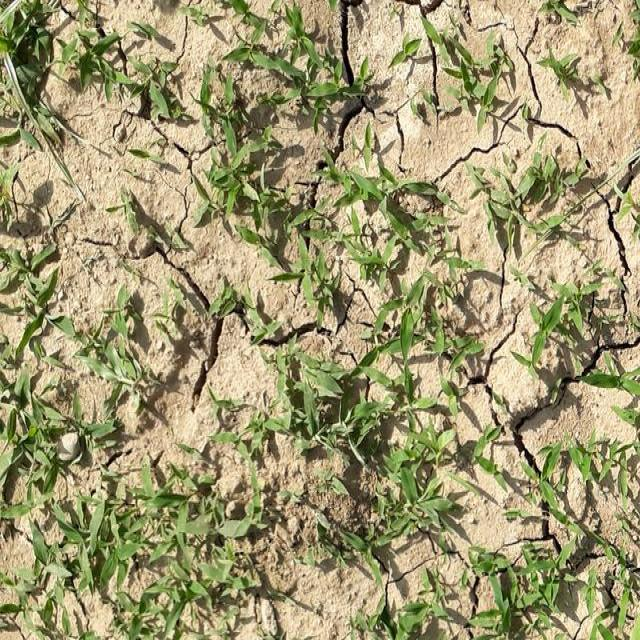weed: (29, 462, 252, 640), (276, 337, 460, 548), (205, 0, 323, 275), (470, 525, 640, 640)
